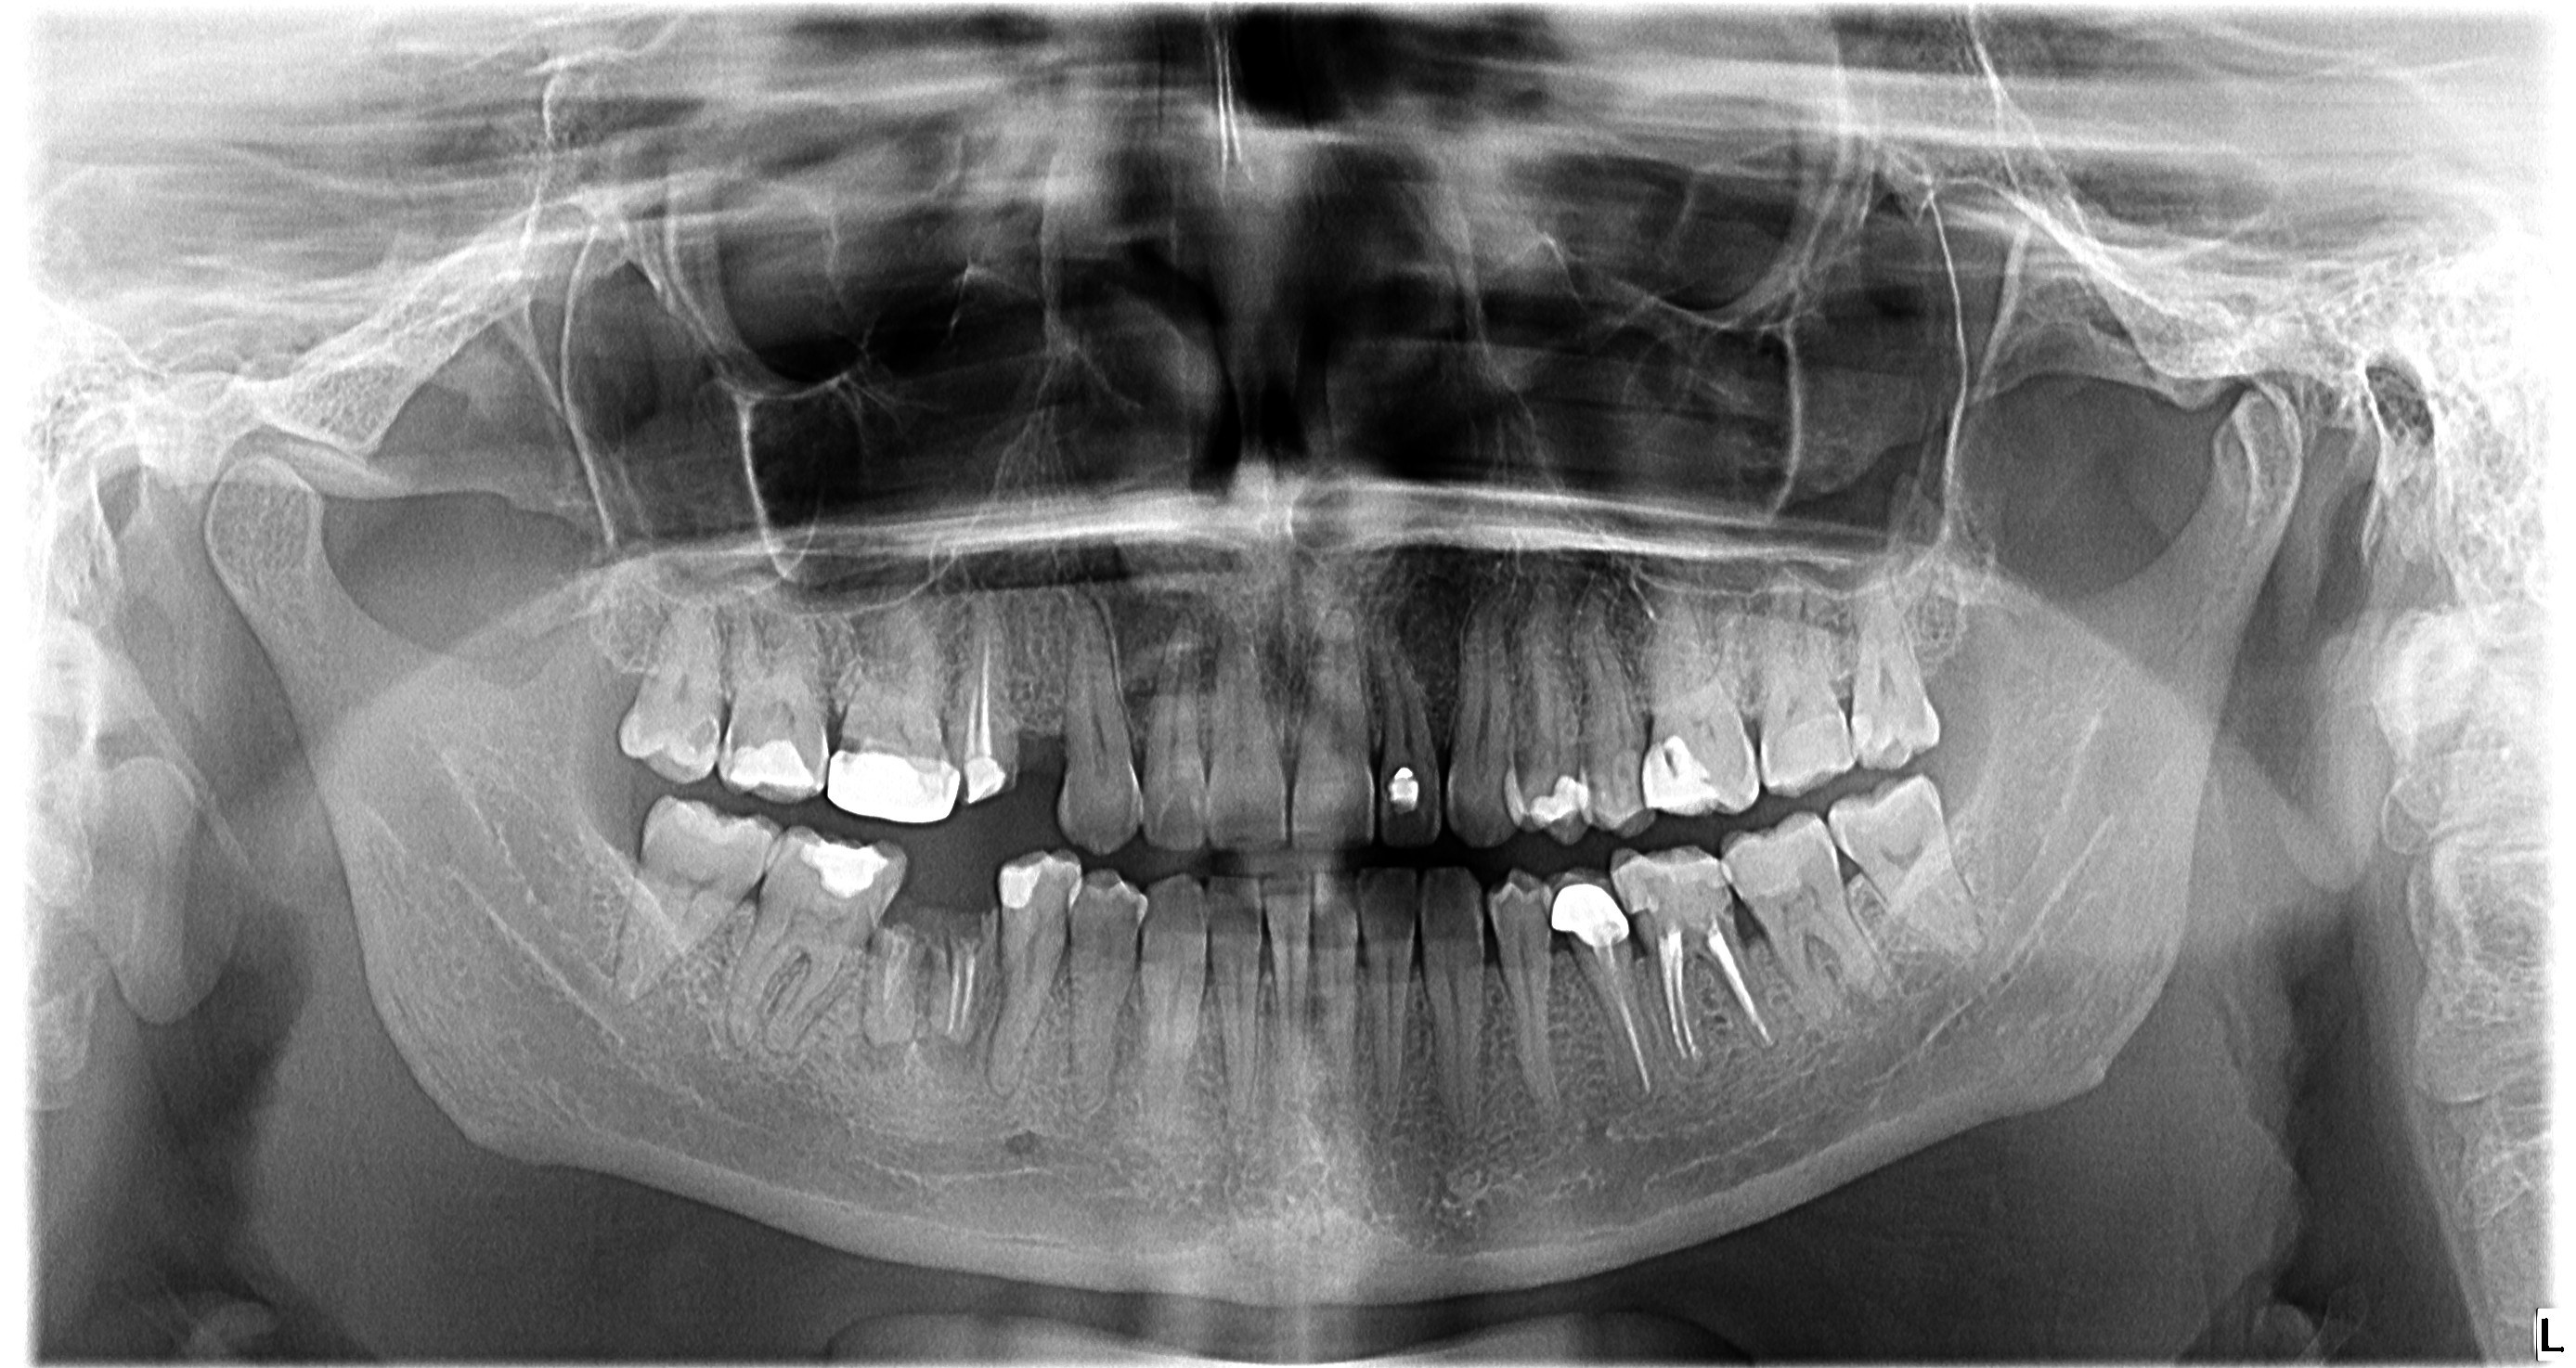API: (830, 1022, 911, 1090), (913, 1029, 983, 1102)
CAR: (666, 705, 726, 768)
END: (1644, 917, 1782, 1072), (947, 606, 1012, 763), (1607, 976, 1666, 1104), (930, 939, 993, 1037), (864, 928, 920, 1036)
OBT: (1717, 806, 1837, 901), (1629, 830, 1733, 913), (785, 833, 898, 910), (1632, 729, 1721, 826), (717, 736, 821, 808), (1501, 762, 1593, 838), (1760, 700, 1843, 780), (940, 755, 1021, 821), (992, 847, 1051, 918), (1378, 753, 1435, 826), (1843, 700, 1884, 756)
PRR: (819, 741, 959, 833), (1540, 862, 1637, 957)
ROT: (922, 893, 993, 1056), (855, 893, 923, 1051)
